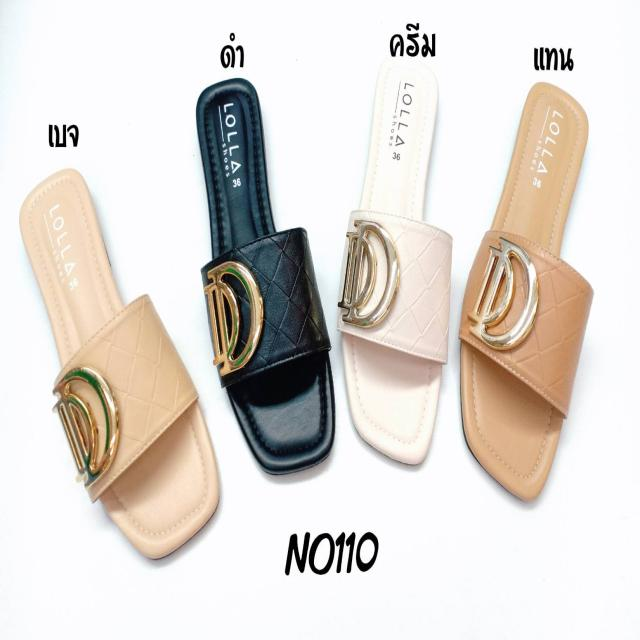bej: (21, 166, 218, 568)
black: (196, 74, 329, 459)
cream: (346, 57, 449, 467)
tan: (459, 70, 592, 491)
